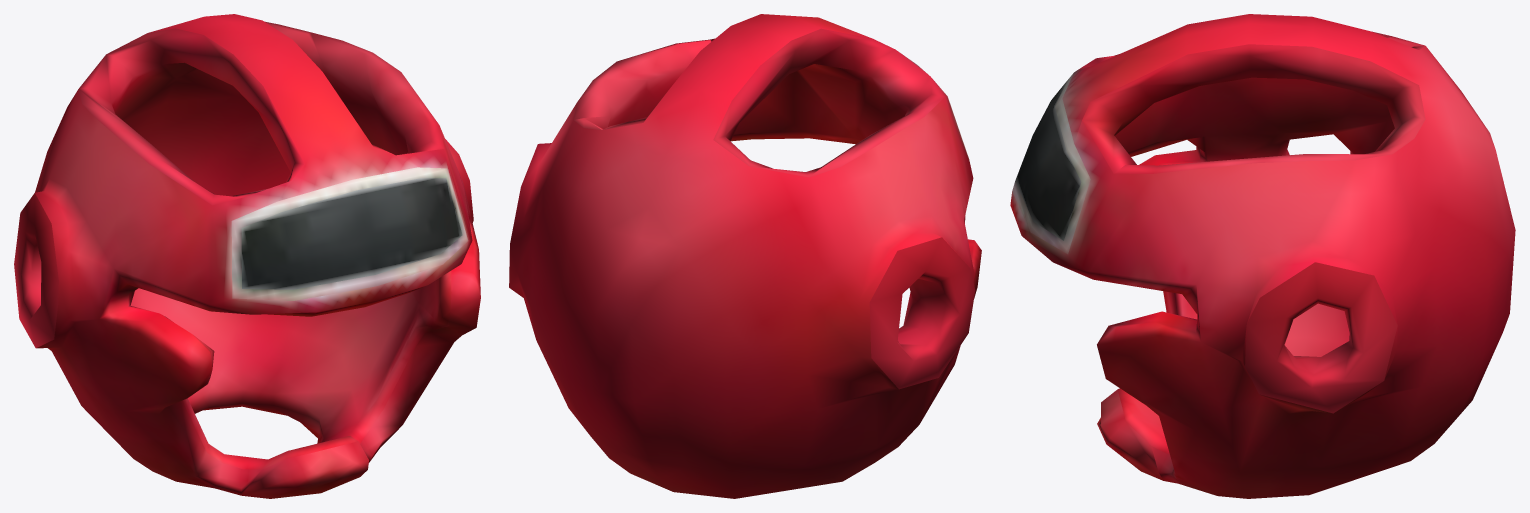
File: Boxing_Hat.glb
The picture shows the model from 3 angles, left to right: view 1: azimuth 30°, elevation 25°; view 2: azimuth 150°, elevation 25°; view 3: azimuth 270°, elevation 25°; orthographic projection. The views are drawn at different scales.
Visible parts, largest first — view 1: Boxing_Hat; view 2: Boxing_Hat; view 3: Boxing_Hat.
Part boxes in pixels (<box>): Boxing_Hat: <box>14,14,480,498</box>; Boxing_Hat: <box>509,14,981,498</box>; Boxing_Hat: <box>1010,14,1515,498</box>.
Size of the model in its own units: 0.6092 by 0.5844 by 0.6115.
Materials: 1 (1 with a texture image).
